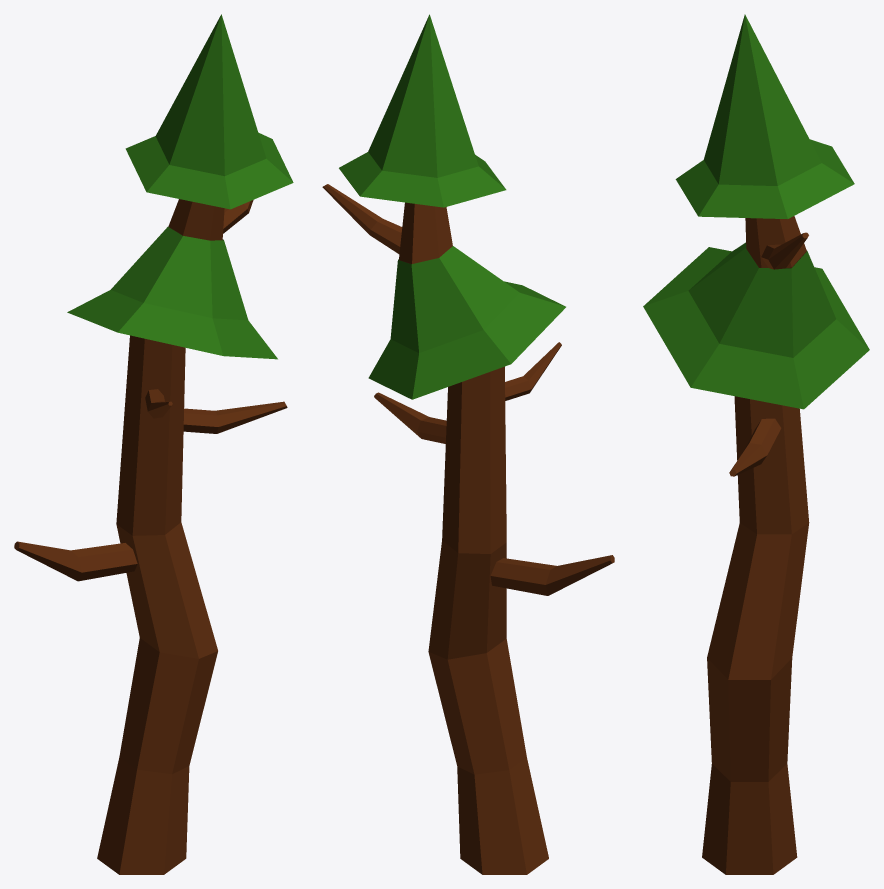
File: tree_1.fbx
The picture shows the model from 3 angles, left to right: view 1: azimuth 30°, elevation 25°; view 2: azimuth 150°, elevation 25°; view 3: azimuth 270°, elevation 25°; orthographic projection. The views are drawn at different scales.
Parts seen in each view (by area): view 1: badtree.003, treeface.003, treeface.004; view 2: badtree.003, treeface.004, treeface.003; view 3: badtree.003, treeface.004, treeface.003.
Boxes of the visible parts, x1,y1,x2,y2 form: badtree.003: (14,199,287,874); treeface.003: (125,14,293,209); treeface.004: (67,227,277,359); badtree.003: (322,184,614,874); treeface.004: (368,246,565,399); treeface.003: (339,14,506,207); badtree.003: (702,216,809,874); treeface.004: (643,242,869,409); treeface.003: (675,14,854,218).
Size of the model in its own units: 70.91 by 205 by 47.6.
